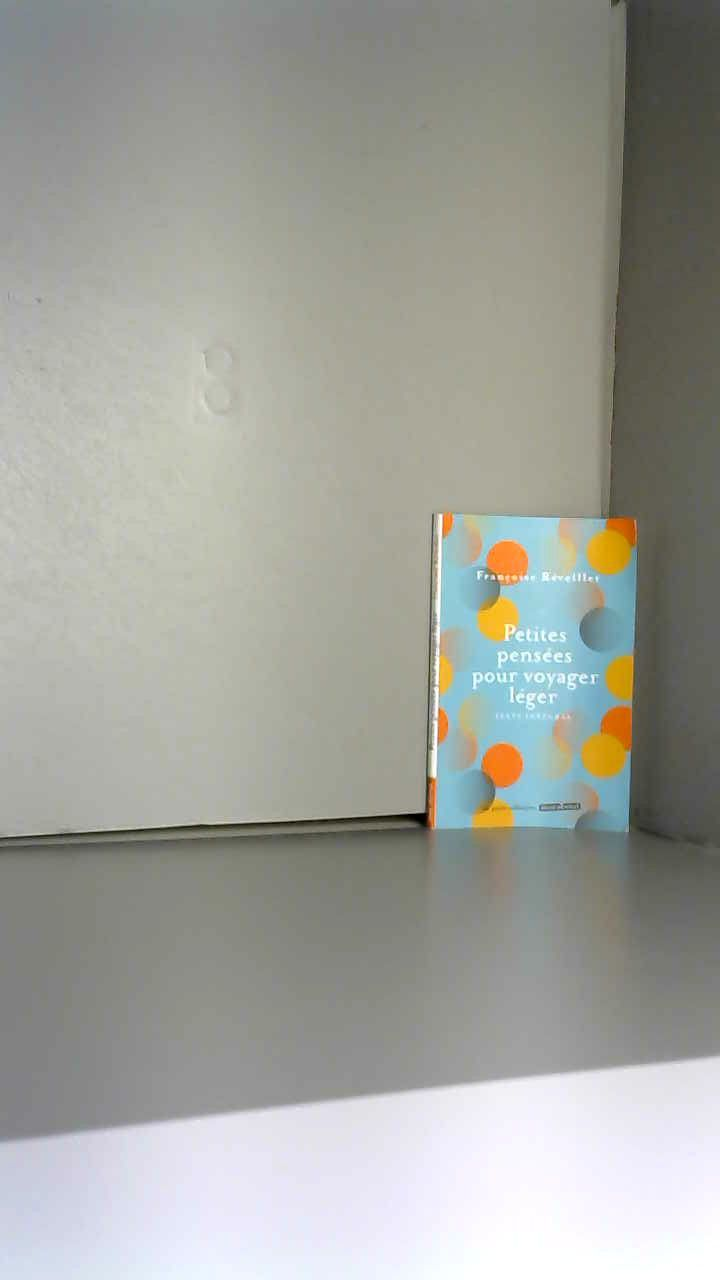book: (405, 490, 659, 867)
